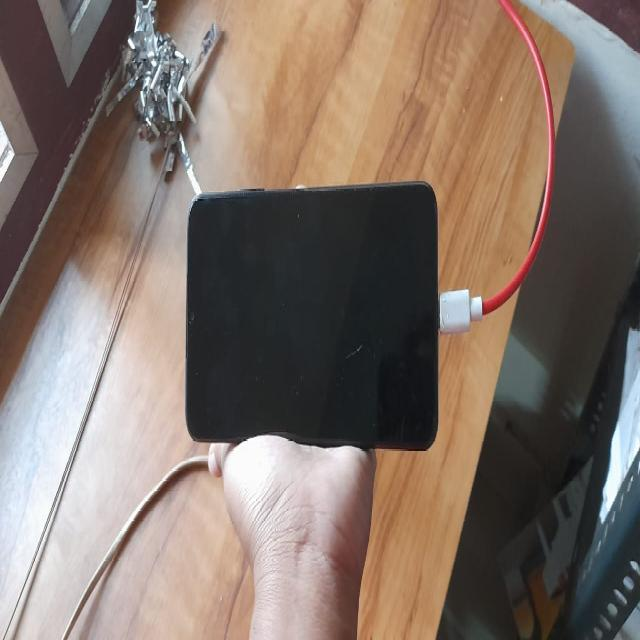Mobile - Recyclable: (180, 175, 447, 466)
